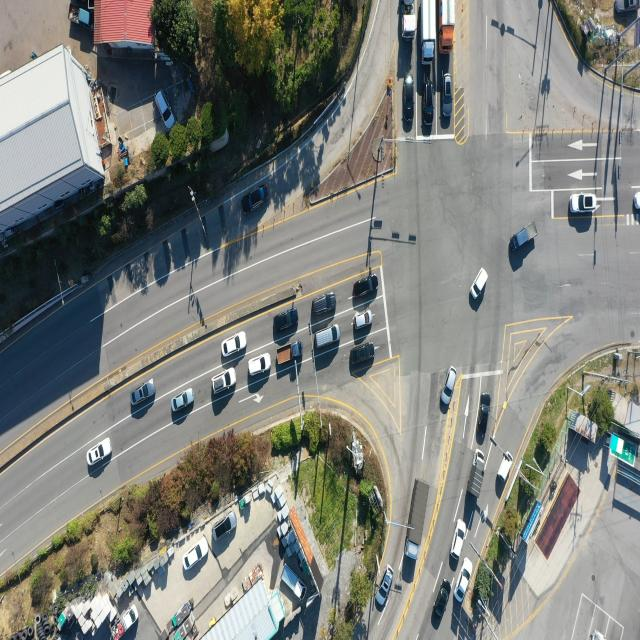car: (183, 539, 208, 572), (455, 557, 473, 601), (242, 186, 268, 216), (157, 89, 176, 130), (377, 568, 395, 610), (89, 439, 113, 468), (478, 395, 492, 444), (313, 324, 340, 349), (451, 518, 467, 560), (442, 366, 458, 407), (222, 332, 246, 359), (436, 582, 453, 620), (350, 343, 375, 368), (214, 512, 236, 540), (212, 368, 236, 393), (273, 310, 299, 333), (311, 292, 336, 315), (132, 378, 155, 403), (352, 276, 378, 298), (406, 75, 416, 128), (249, 352, 271, 376), (569, 194, 595, 214), (472, 268, 488, 300), (172, 389, 194, 412), (497, 451, 512, 482), (444, 76, 454, 121), (423, 80, 433, 125), (353, 311, 372, 329), (616, 0, 638, 14), (634, 190, 640, 212)
medium_truck: (406, 476, 429, 562), (420, 0, 440, 63), (440, 0, 455, 55), (403, 0, 418, 42)
small_truck: (280, 560, 306, 600), (112, 602, 138, 640), (470, 450, 488, 499), (513, 224, 537, 252), (276, 341, 302, 366), (67, 5, 91, 25)
